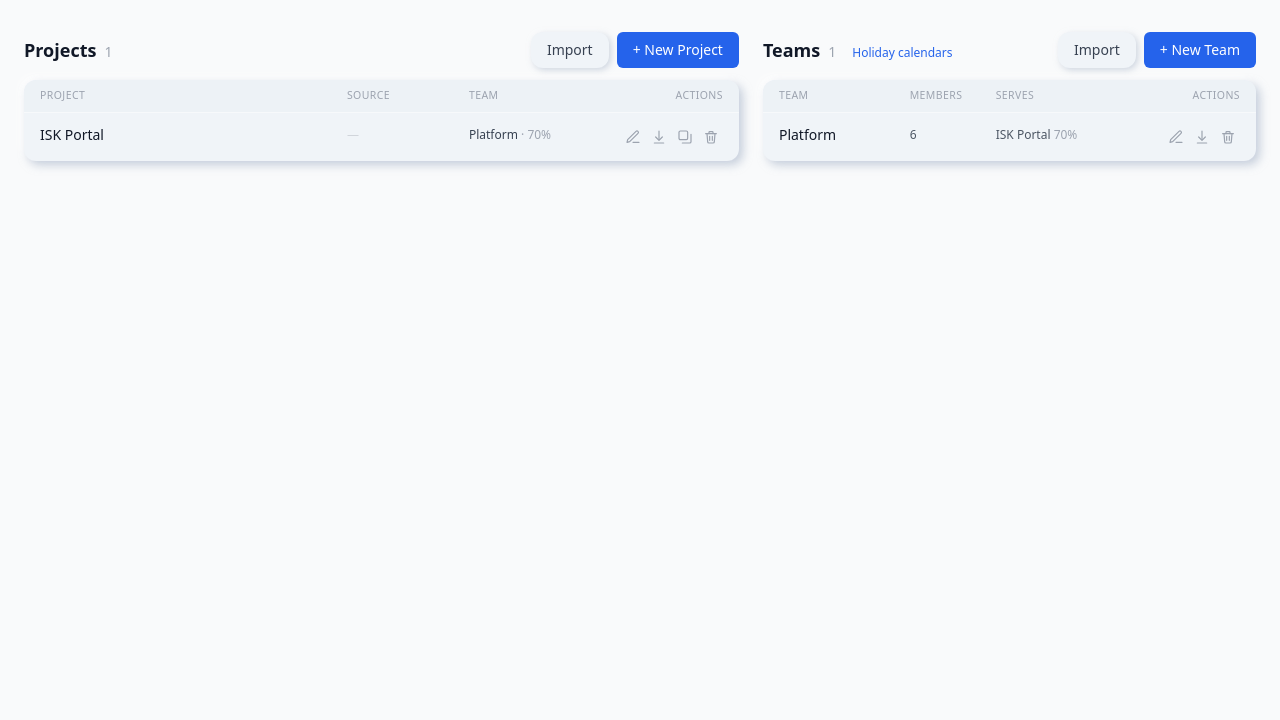
it: ProjectListPage — Teams section › names the projects that block a team deletion
Click the button named "delete" below "Members".
click(1228, 137)  # box 1216,125 -> 1240,149
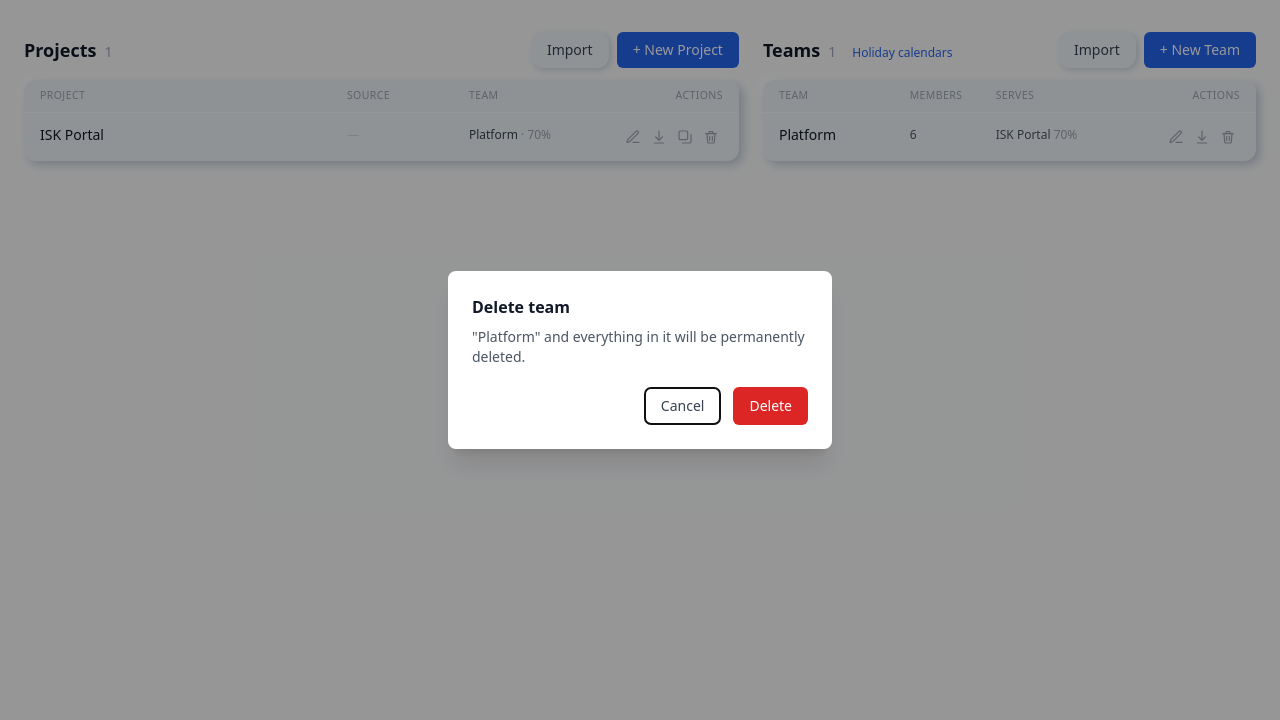
Click the button "Delete".
click(771, 406)  # box 733,387 -> 808,425
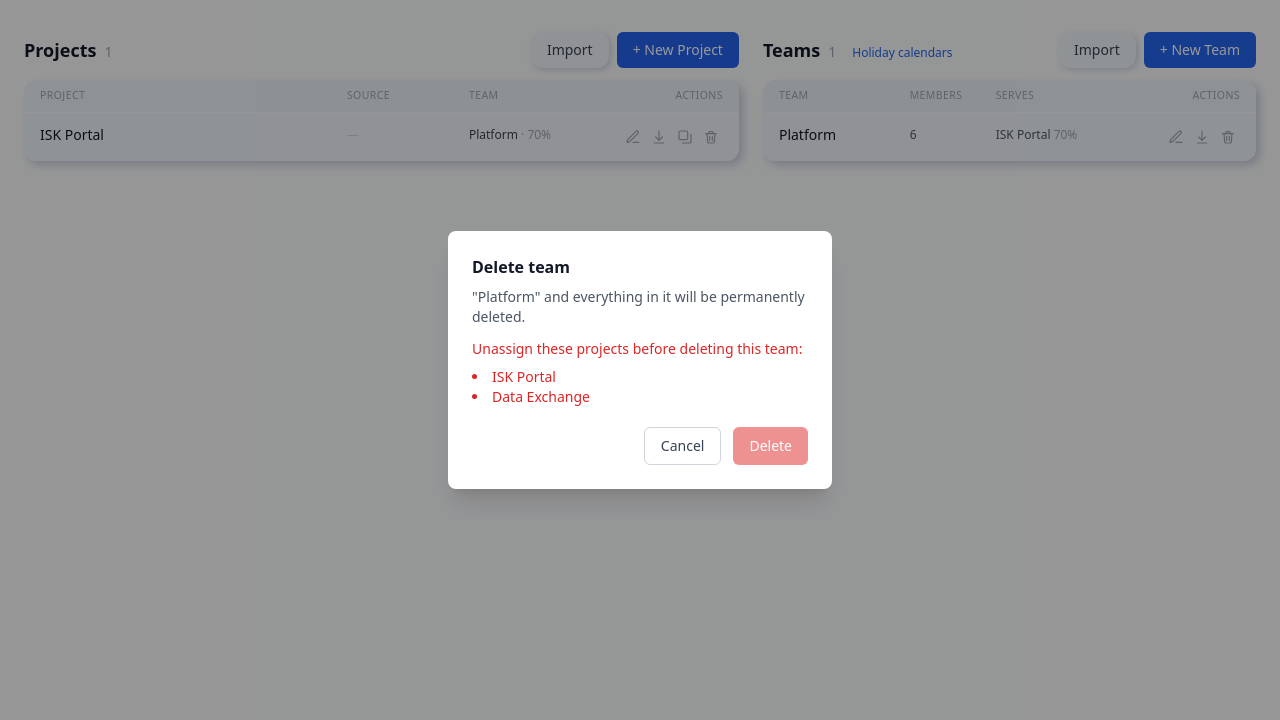
expect the message shows "Unassign these projects before deleting this team:": met, box 472,339 -> 802,358
expect the list item "ISK Portal" is shown: met, box 492,367 -> 556,386
expect the list item "Data Exchange" is shown: met, box 492,387 -> 590,406
